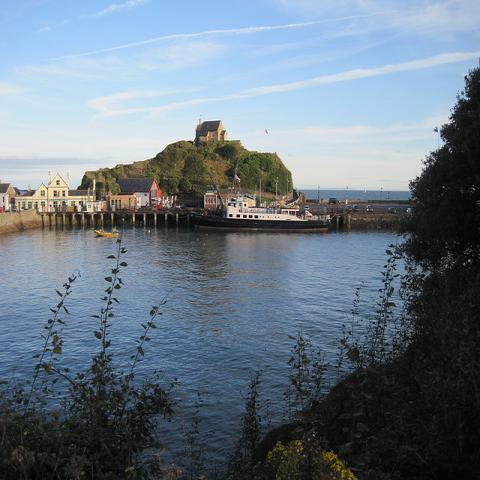car: (345, 205, 397, 214), (149, 205, 158, 212), (329, 198, 339, 204), (365, 206, 373, 212), (303, 205, 310, 211), (353, 204, 359, 211), (406, 208, 412, 214)
